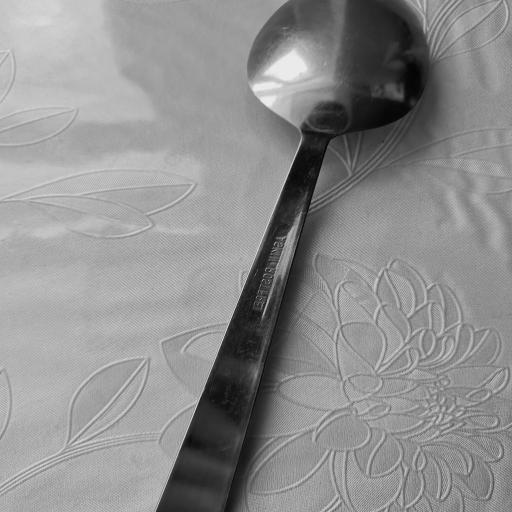spoon: (145, 0, 429, 512)
